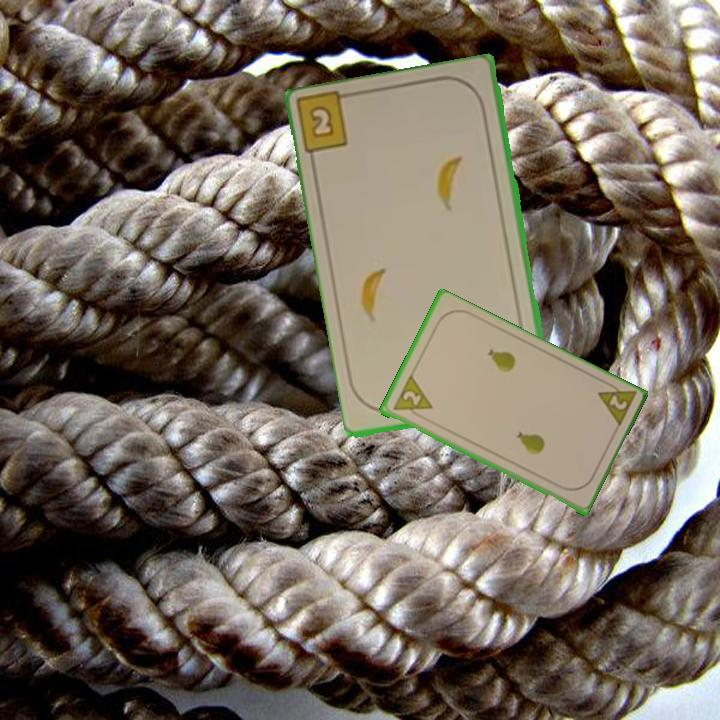2b: (306, 102, 338, 142)
2p: (593, 377, 638, 431), (389, 373, 435, 422)
